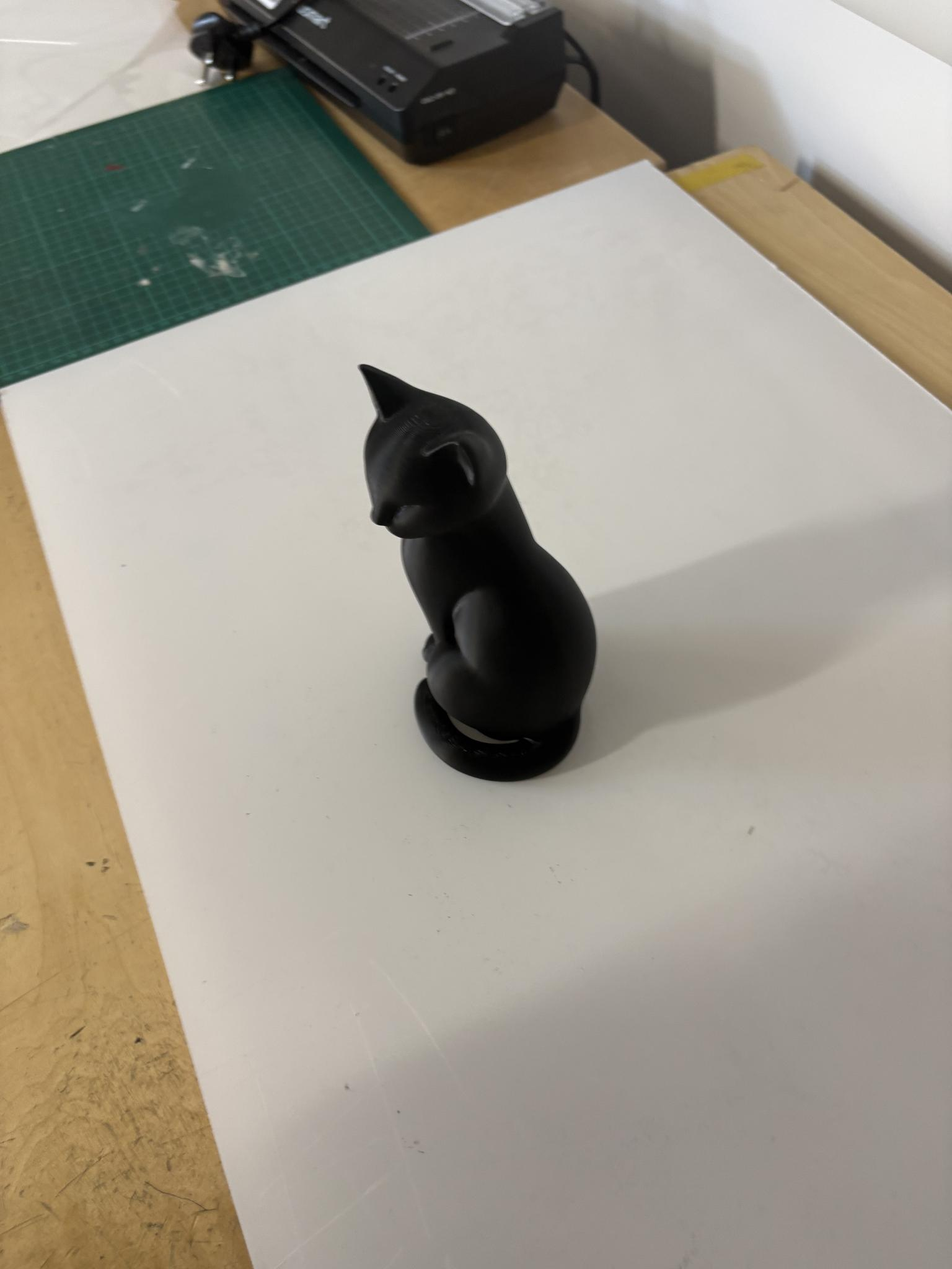cat: (361, 366, 596, 780)
